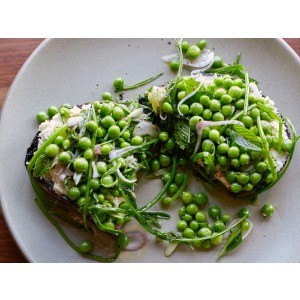green pea_brain food: (41, 98, 136, 204), (193, 76, 258, 176)
